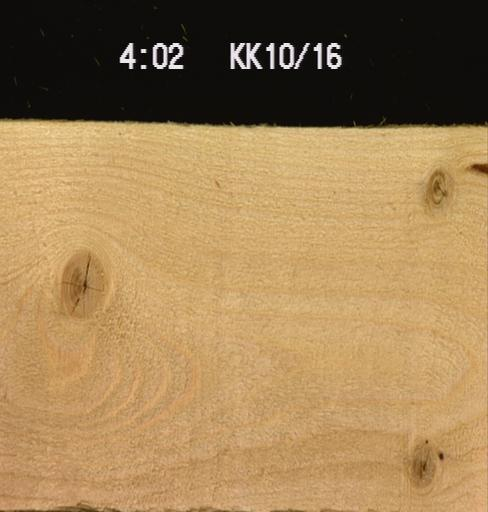sound_knot: (60, 246, 107, 317), (399, 439, 436, 489), (425, 166, 449, 206)
